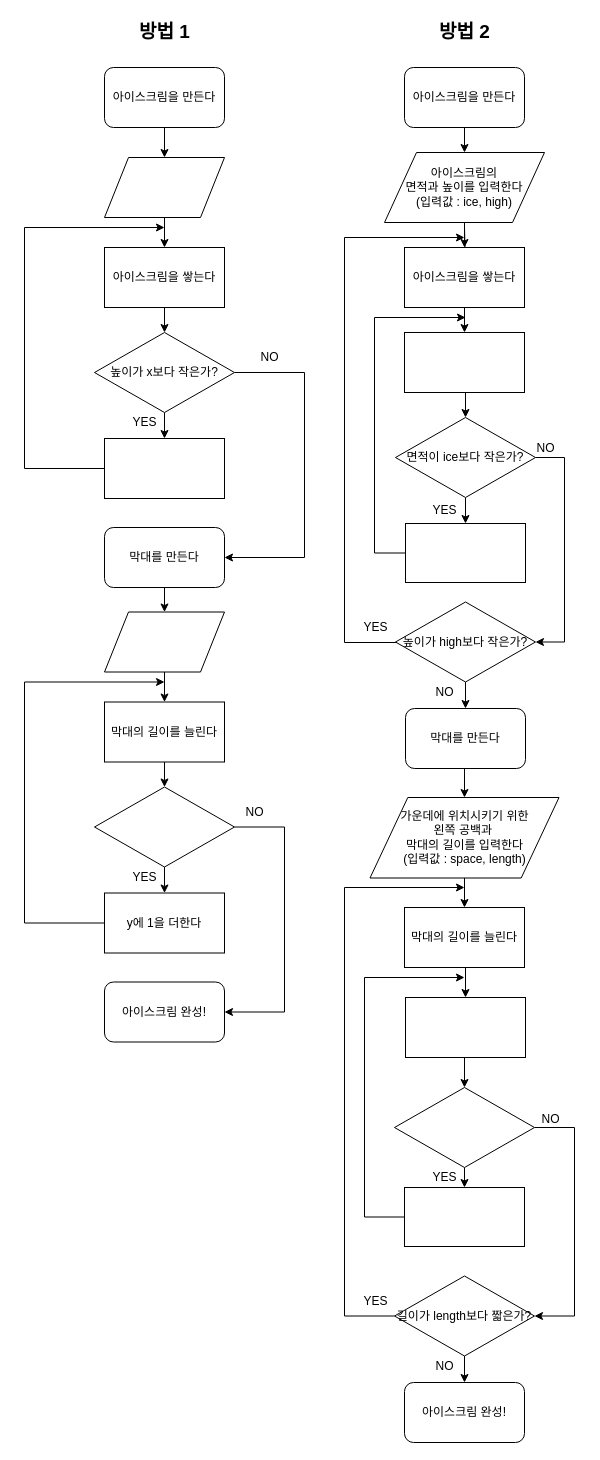
Some shapes in this 600 by 1460 pixel diagram are drawn without their labels. The centre of each missing label's shape, as x and y in pixels:
"ice에 1을 더한다" belongs at (465,552).
"space에 1을 더한다" belongs at (464,1216).
"x에 1을 더한다" belongs at (164,468).
"공백을 입력한다" belongs at (465,1027).
"공백이 space보다 작은가?" belongs at (464,1127).
"길이가 y보다 짧은가?" belongs at (164,826).
"막대의 길이를 입력한다 (입력값 : y)" belongs at (164,641).
"면적을 늘린다" belongs at (464,362).
"아이스크림의 높이를 입력한다 (입력값 : x)" belongs at (164,187).
